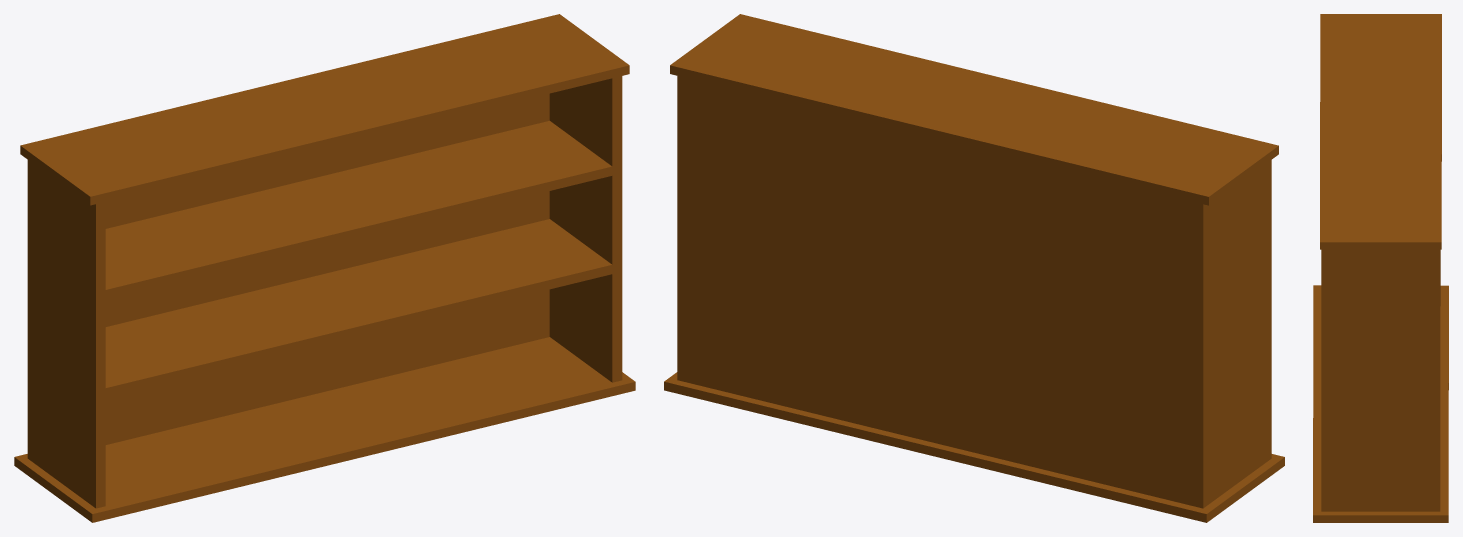
File: book-shelf.glb
The picture shows the model from 3 angles, left to right: view 1: azimuth 30°, elevation 25°; view 2: azimuth 150°, elevation 25°; view 3: azimuth 270°, elevation 25°; orthographic projection. The views are drawn at different scales.
Parts seen in each view (by area): view 1: Cube; view 2: Cube; view 3: Cube.
Boxes of the visible parts, bbox=[...] form: Cube: bbox=[14, 14, 635, 522]; Cube: bbox=[664, 14, 1284, 522]; Cube: bbox=[1313, 14, 1448, 522].
Bounding box in the file's own units: 8.02 × 4.55 × 2.
